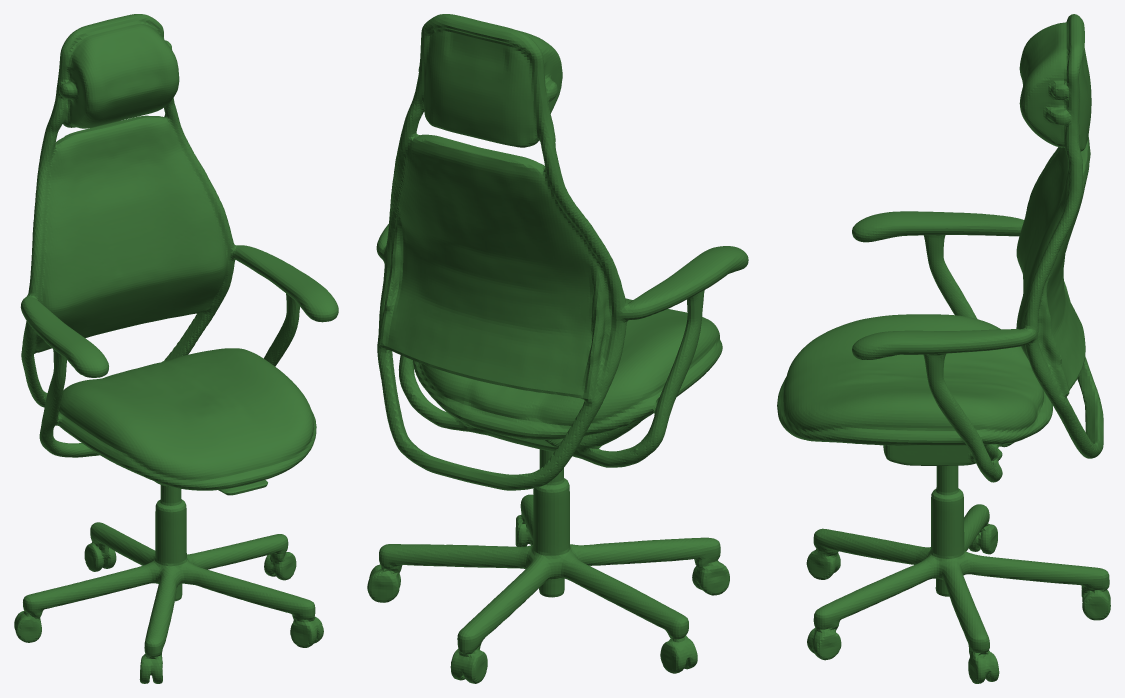
The picture shows the model from 3 angles, left to right: view 1: azimuth 30°, elevation 25°; view 2: azimuth 150°, elevation 25°; view 3: azimuth 270°, elevation 25°; orthographic projection. The views are drawn at different scales.
Visible parts, largest first — view 1: tmpm0faovc1ply; view 2: tmpm0faovc1ply; view 3: tmpm0faovc1ply.
Boxes of the visible parts, x1=… form: tmpm0faovc1ply: x1=14, y1=14, x2=338, y2=683; tmpm0faovc1ply: x1=367, y1=14, x2=748, y2=683; tmpm0faovc1ply: x1=777, y1=14, x2=1110, y2=683.
Size of the model in its own units: 0.7112 by 1.35 by 0.697.
